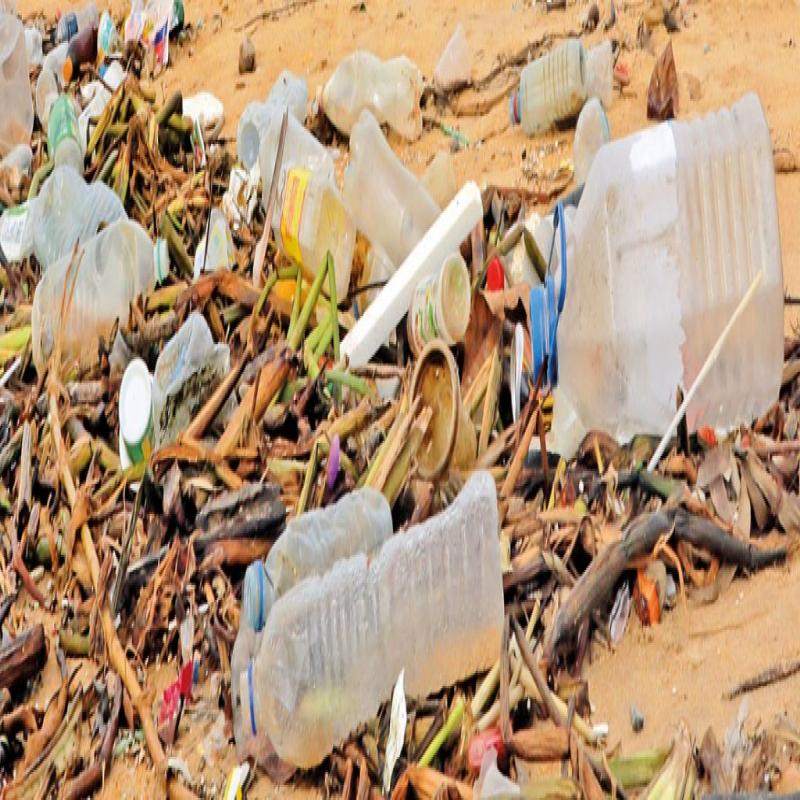botella: (229, 477, 508, 762), (243, 496, 394, 625), (28, 225, 170, 343), (344, 124, 440, 269), (272, 164, 353, 299), (318, 38, 422, 134), (31, 161, 125, 263), (508, 46, 591, 128), (46, 83, 86, 166), (582, 32, 619, 110), (56, 4, 102, 43)
